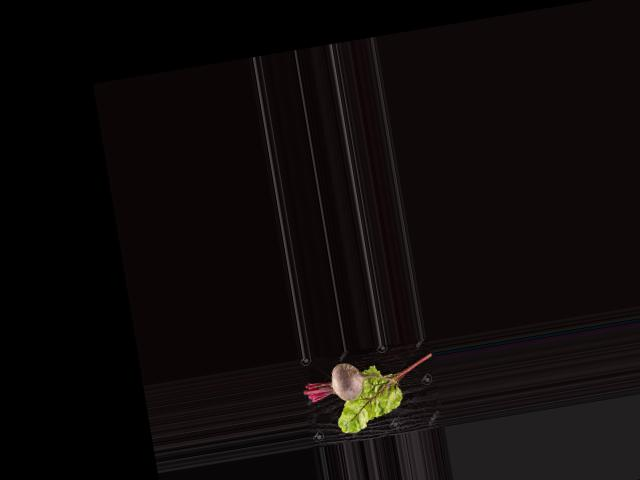beet: (299, 354, 400, 407)
